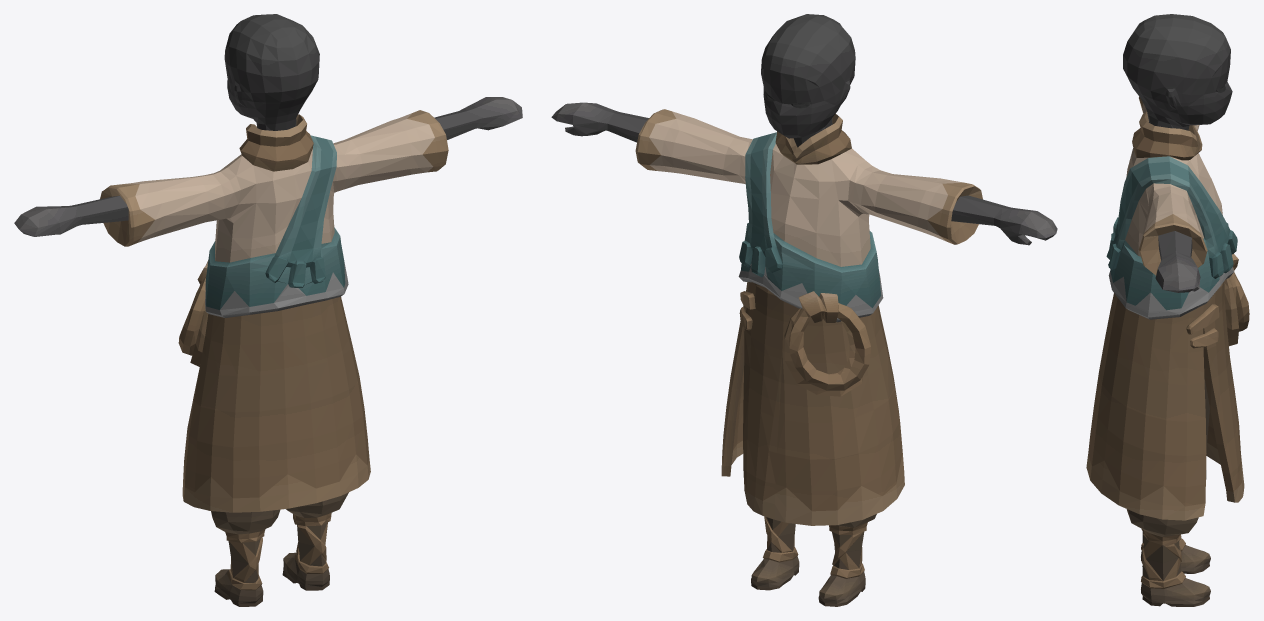
Rendered from CharSkyKid_Body_AP27Herder.glb.
3 renders of one model, left to right at view 1: azimuth 30°, elevation 25°; view 2: azimuth 150°, elevation 25°; view 3: azimuth 270°, elevation 25°, orthographic.
Parts seen in each view (by area): view 1: CharSkyKid_Body_AP27Herder; view 2: CharSkyKid_Body_AP27Herder; view 3: CharSkyKid_Body_AP27Herder.
Part boxes in pixels (left/top/right/bottom): CharSkyKid_Body_AP27Herder: left=14, top=14, right=522, bottom=606; CharSkyKid_Body_AP27Herder: left=551, top=14, right=1057, bottom=606; CharSkyKid_Body_AP27Herder: left=1086, top=14, right=1249, bottom=606.
Bounding box in the file's own units: 13.83 × 14.93 × 3.9.
Materials: 1 (1 with a texture image).
